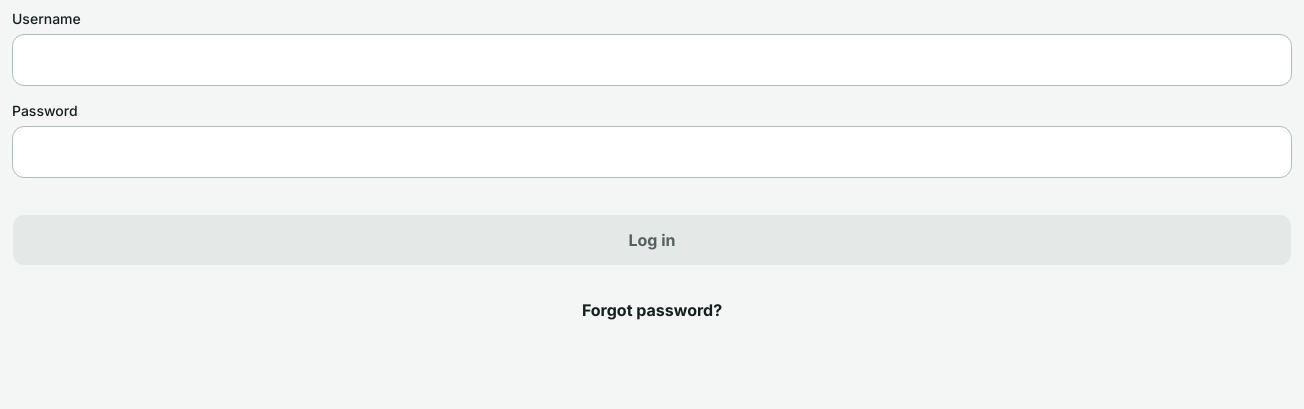
Scenario: LoginForm › says "1 minute" when less than a minute is left (boundary)
Type "bb-4k7q2m" into the field labelled "Username" at (652, 60), box [12, 34, 1292, 86]
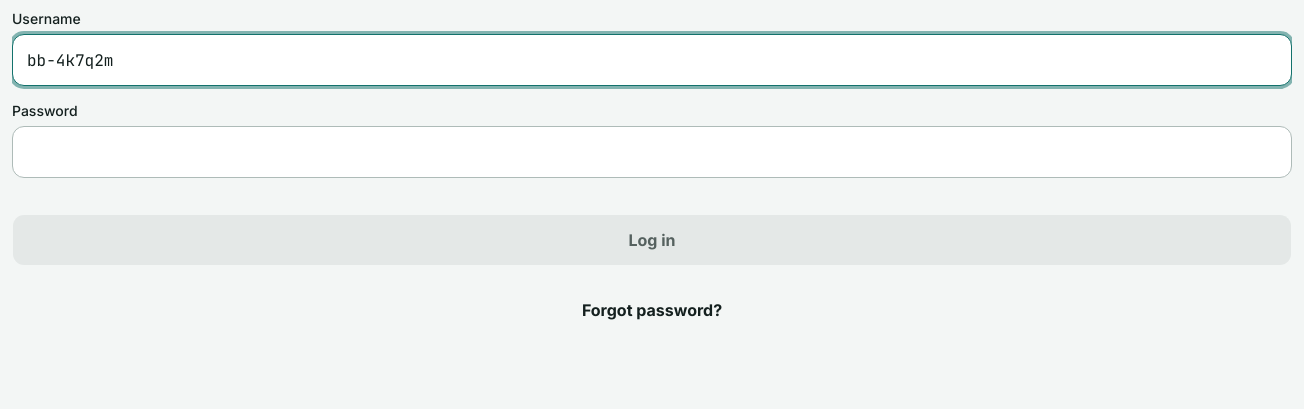
Type "wrong-password" into the password field labelled "Password" at (652, 152), box [12, 126, 1292, 178]
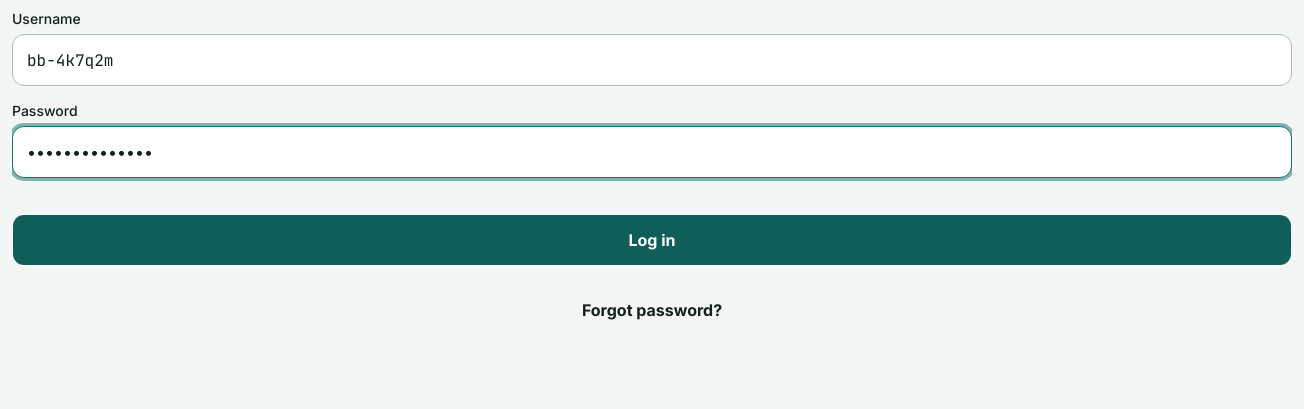
Click the button "Log in" at (652, 240), box [12, 214, 1292, 266]
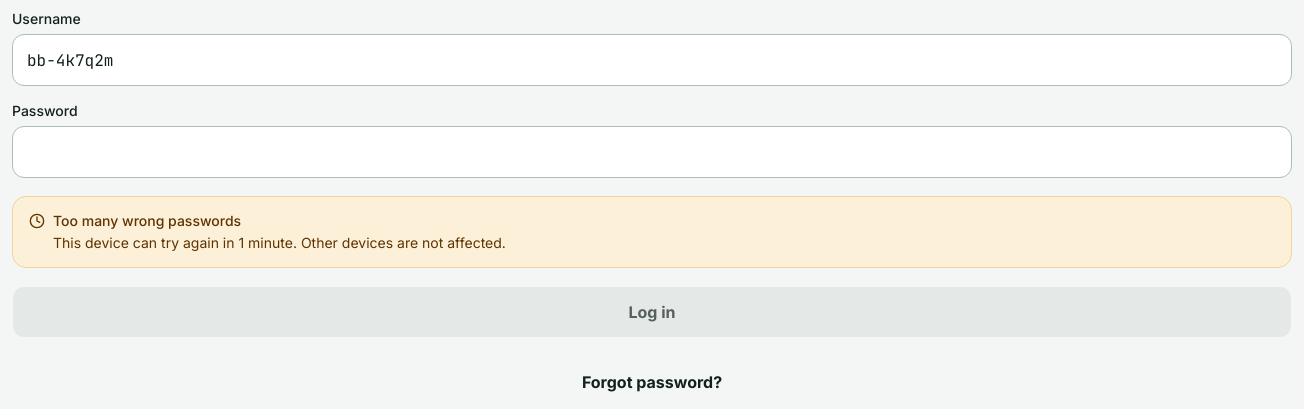
expect the text "can try again in 1 minute." is shown: met, box [53, 234, 506, 251]
